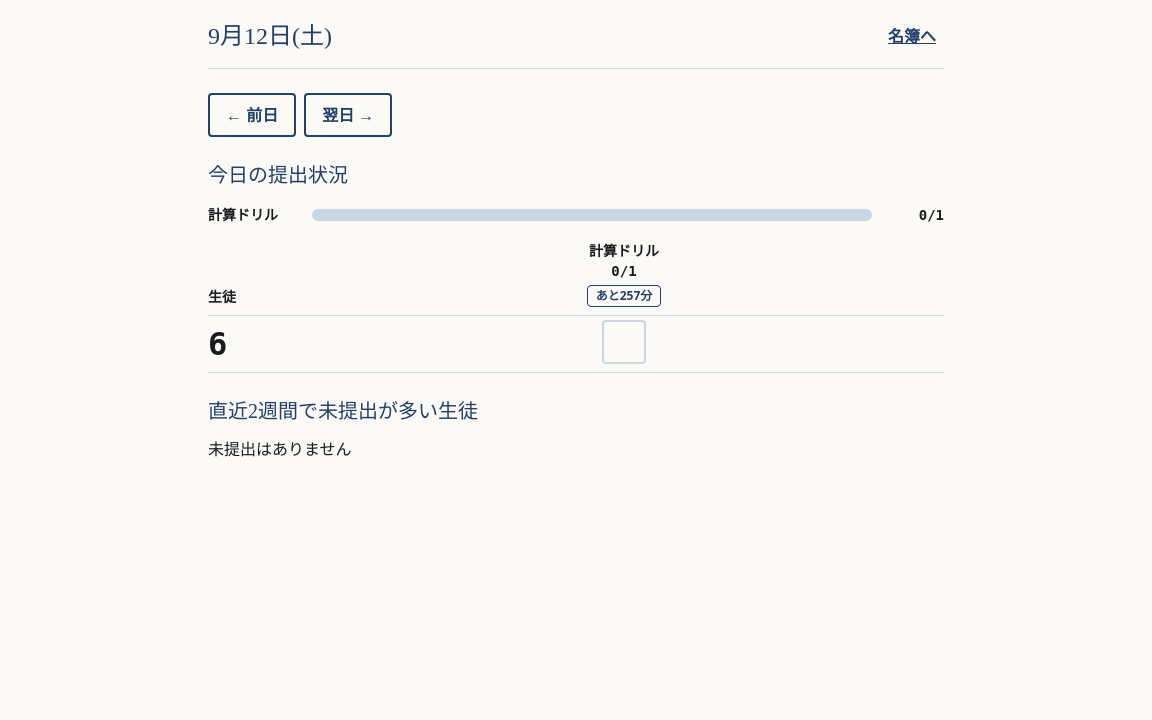
it: 欠席マーク › 保存に失敗したらエラーを表示し、セルは変わらない
This screenshot has width=1152, height=720.
Click the button named "6番 計算ドリル 未提出" at (624, 342), box [602, 320, 646, 364]
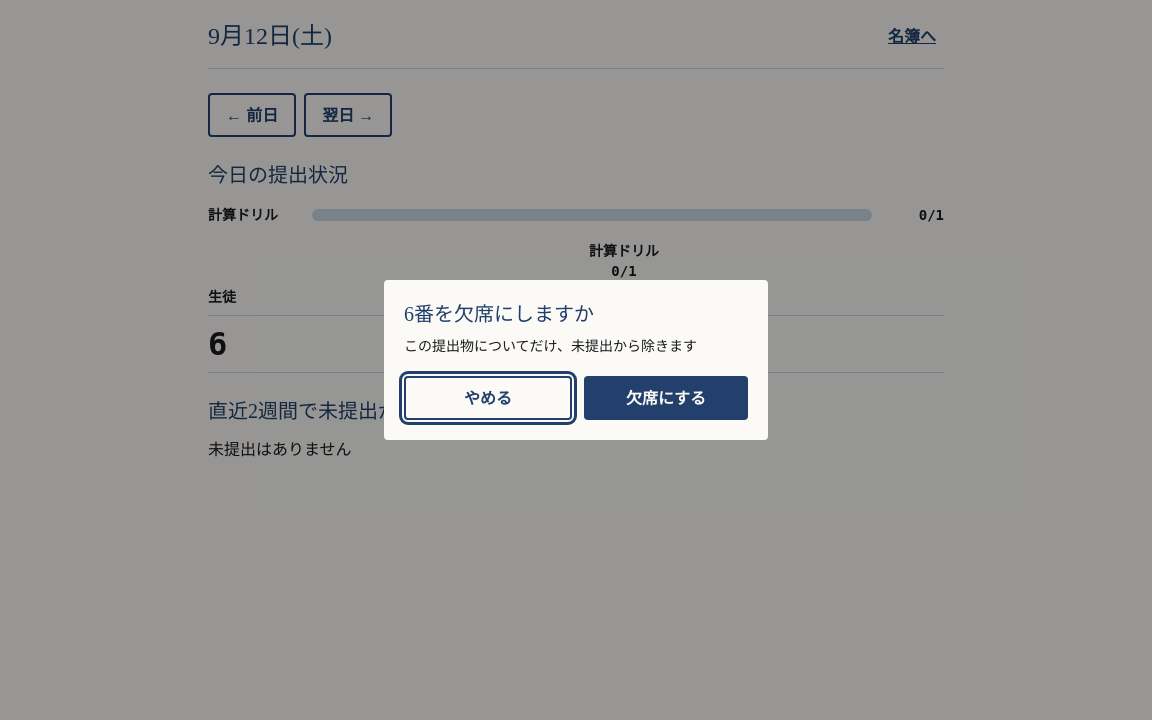
Click the button "欠席にする" at (666, 398), box [584, 376, 748, 420]
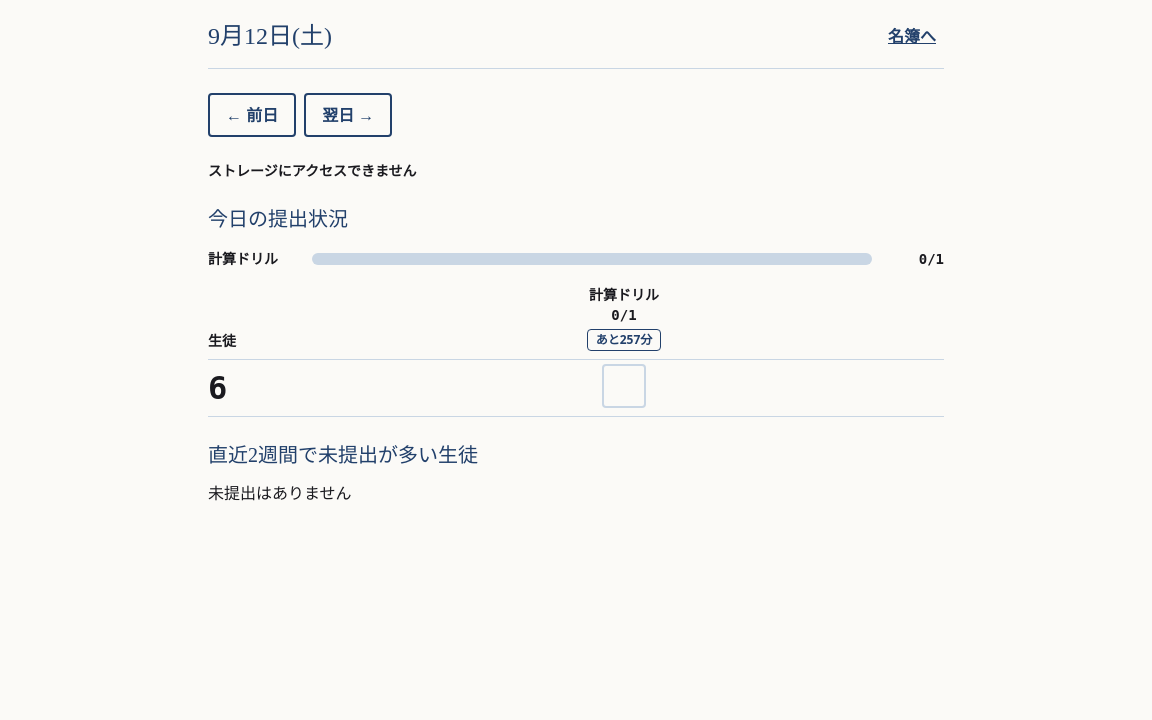
Expected: the button named "6番 計算ドリル 未提出" is shown, [602, 364, 646, 408]
Result: the text "ストレージにアクセスできません" is shown at [208, 161, 417, 180]
